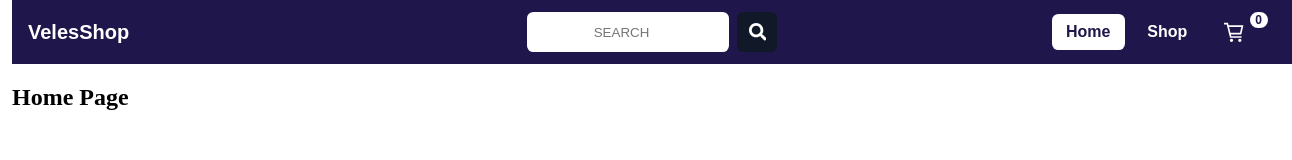
Test: NavBar › navigates to /shop when clicking the Shop link
This screenshot has width=1292, height=160.
Step 1. Click the link "Shop" → (1167, 32), box left=1147, top=23, right=1187, bottom=40
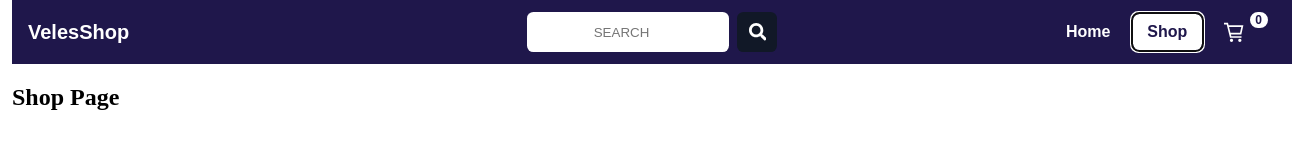
Expected: the heading "Shop Page" is shown, left=12, top=84, right=119, bottom=110
